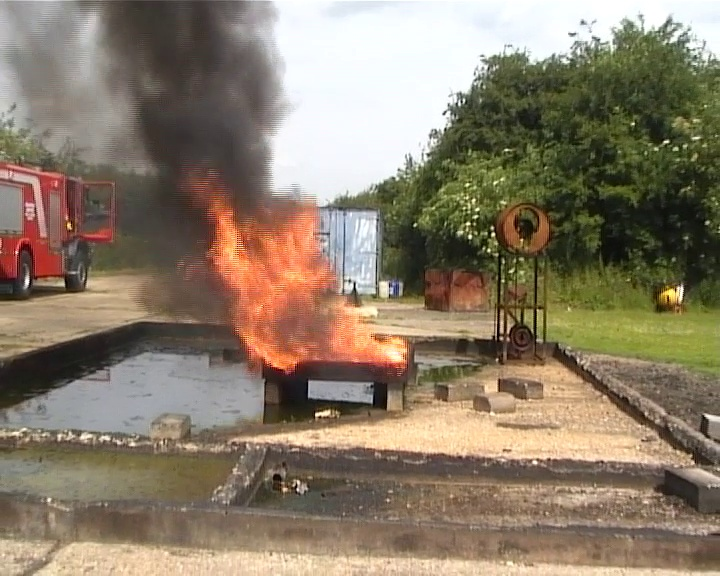fire: (214, 207, 409, 362)
